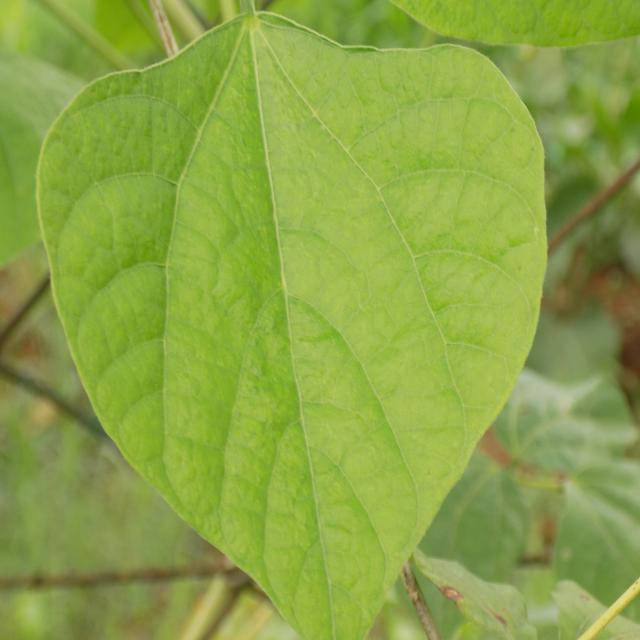Dolicos bean_healthy: (38, 12, 548, 640)
